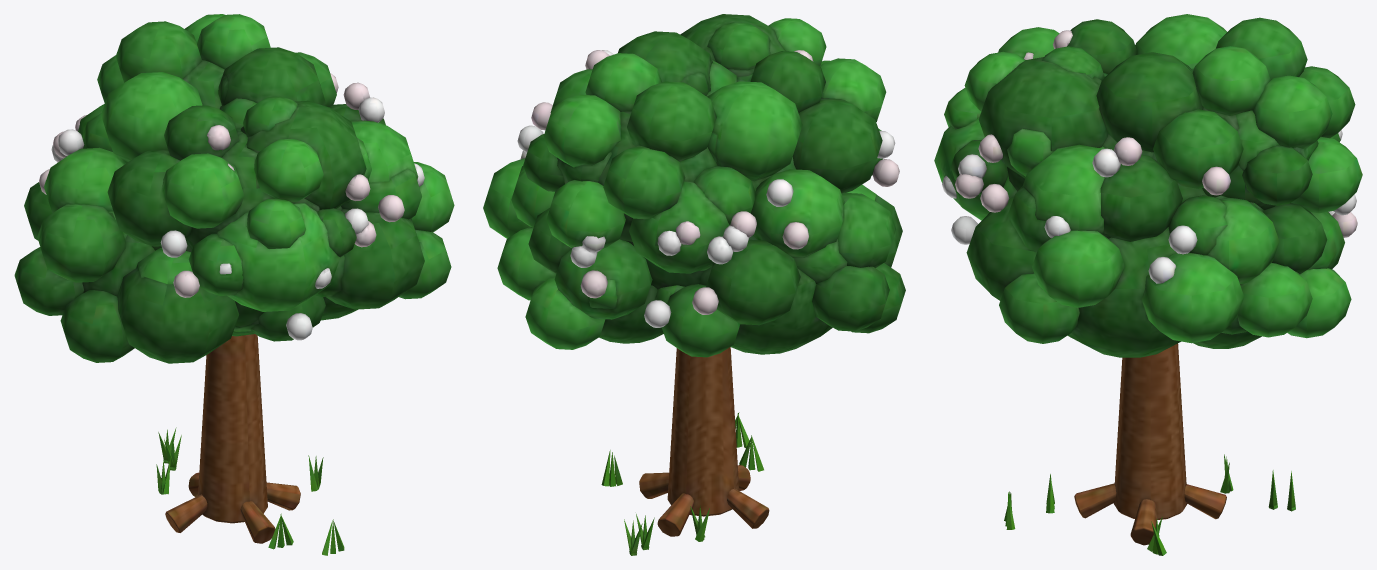
The model's file is sour_cherry_tree.glb.
The picture shows the model from 3 angles, left to right: view 1: azimuth 30°, elevation 25°; view 2: azimuth 150°, elevation 25°; view 3: azimuth 270°, elevation 25°; orthographic projection. The views are drawn at different scales.
Visible parts, largest first — view 1: crown, sour_cherry_tree; view 2: crown, sour_cherry_tree; view 3: crown, sour_cherry_tree.
Part boxes in pixels (x1,y1,x2,y2): crown: [14, 14, 454, 363]; sour_cherry_tree: [156, 334, 344, 555]; crown: [483, 14, 905, 357]; sour_cherry_tree: [601, 347, 769, 555]; crown: [934, 14, 1362, 357]; sour_cherry_tree: [1004, 343, 1295, 555].
Size of the model in its own units: 1.08 by 1.23 by 0.982.
Materials: 1 (1 with a texture image).
